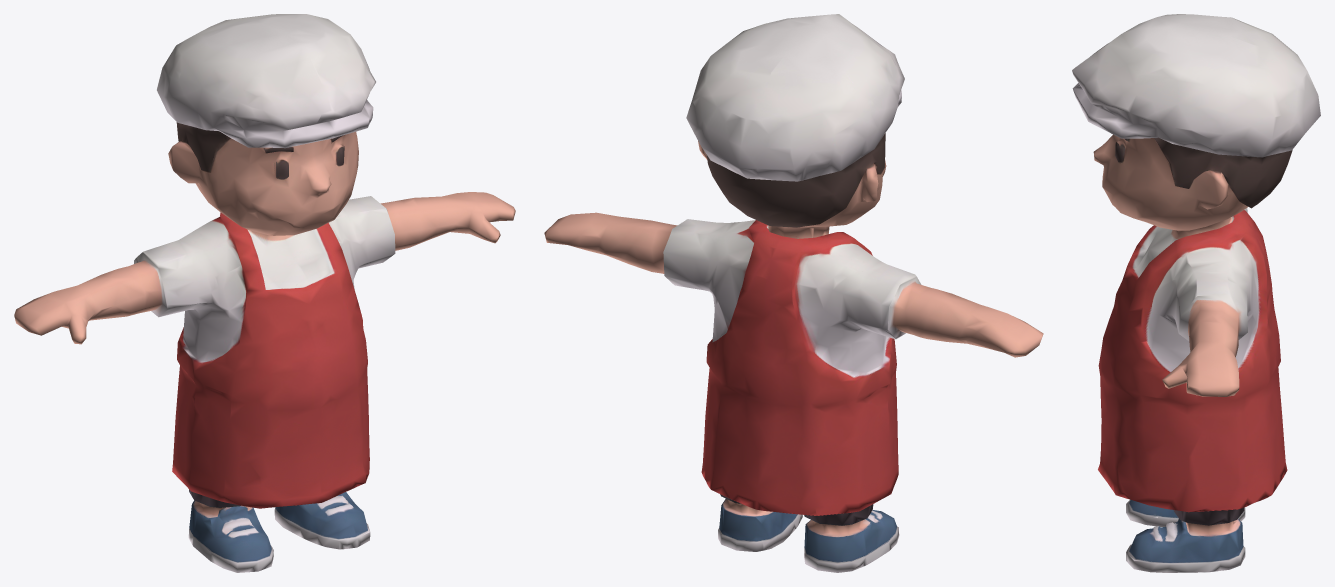
Rendered from apprentice_front.glb.
The picture shows the model from 3 angles, left to right: view 1: azimuth 30°, elevation 25°; view 2: azimuth 150°, elevation 25°; view 3: azimuth 270°, elevation 25°; orthographic projection.
Visible parts, largest first — view 1: tripo_node_d86e2152-1e0b-4bf5-9387-97684a90a6bb; view 2: tripo_node_d86e2152-1e0b-4bf5-9387-97684a90a6bb; view 3: tripo_node_d86e2152-1e0b-4bf5-9387-97684a90a6bb.
Part boxes in pixels (x1,y1,x2,y2): tripo_node_d86e2152-1e0b-4bf5-9387-97684a90a6bb: (14,14,515,572); tripo_node_d86e2152-1e0b-4bf5-9387-97684a90a6bb: (544,14,1043,572); tripo_node_d86e2152-1e0b-4bf5-9387-97684a90a6bb: (1072,14,1320,572).
Size of the model in its own units: 0.9962 by 1 by 0.4428.
1 material, 1 textured.
